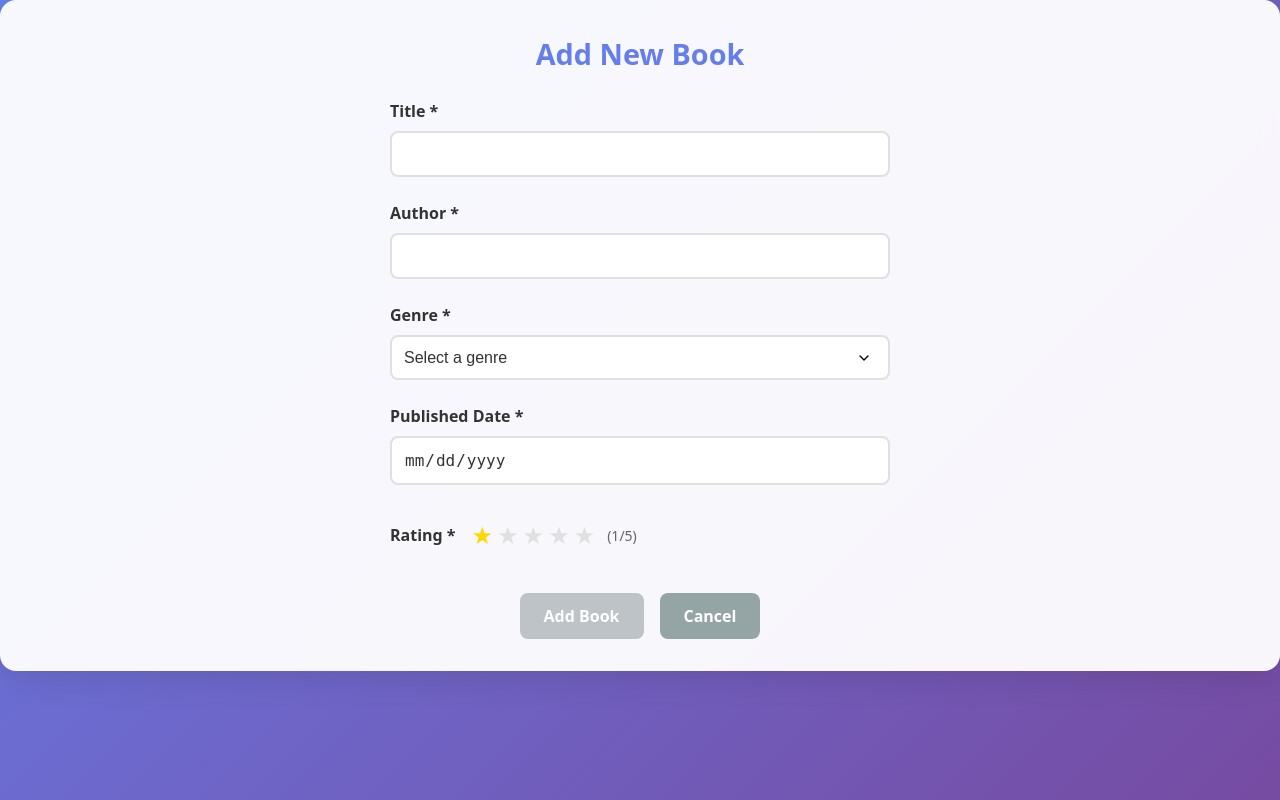
BookForm › enables submit button when form is valid
# Fill in form fields
Type "Valid Book" into the field labelled "Title *" at (640, 154), box [390, 131, 890, 177]
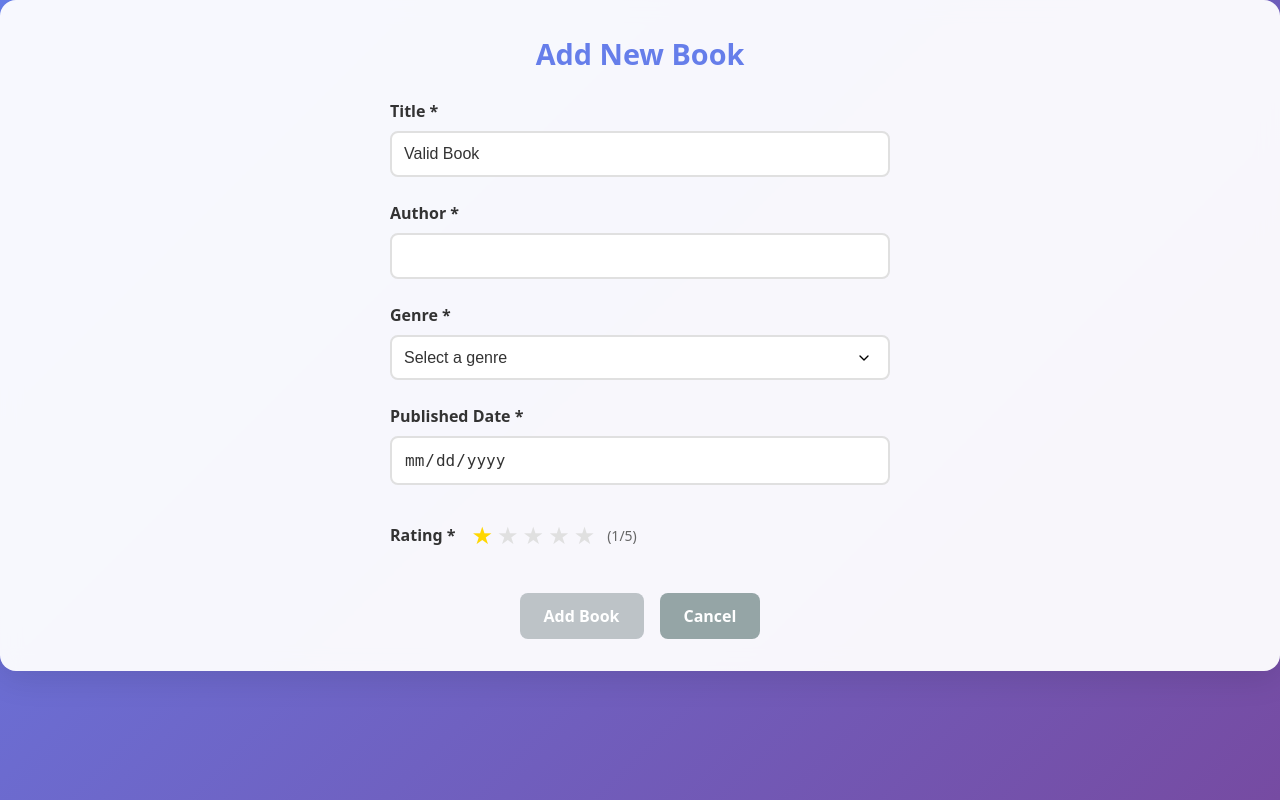
Type "Valid Author" into the field labelled "Author *" at (640, 256), box [390, 233, 890, 279]
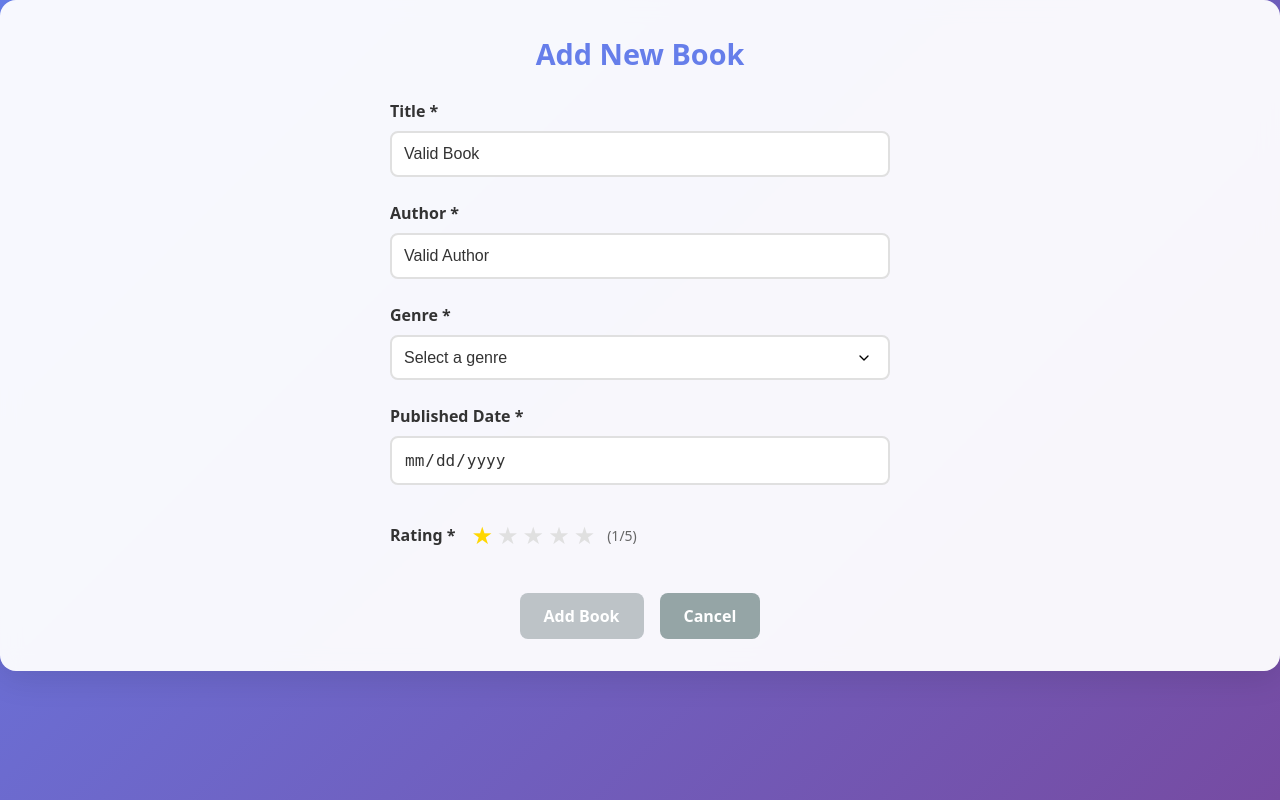
Select "Fiction" in the dropdown labelled "Genre *" at (640, 358), box [390, 335, 890, 380]
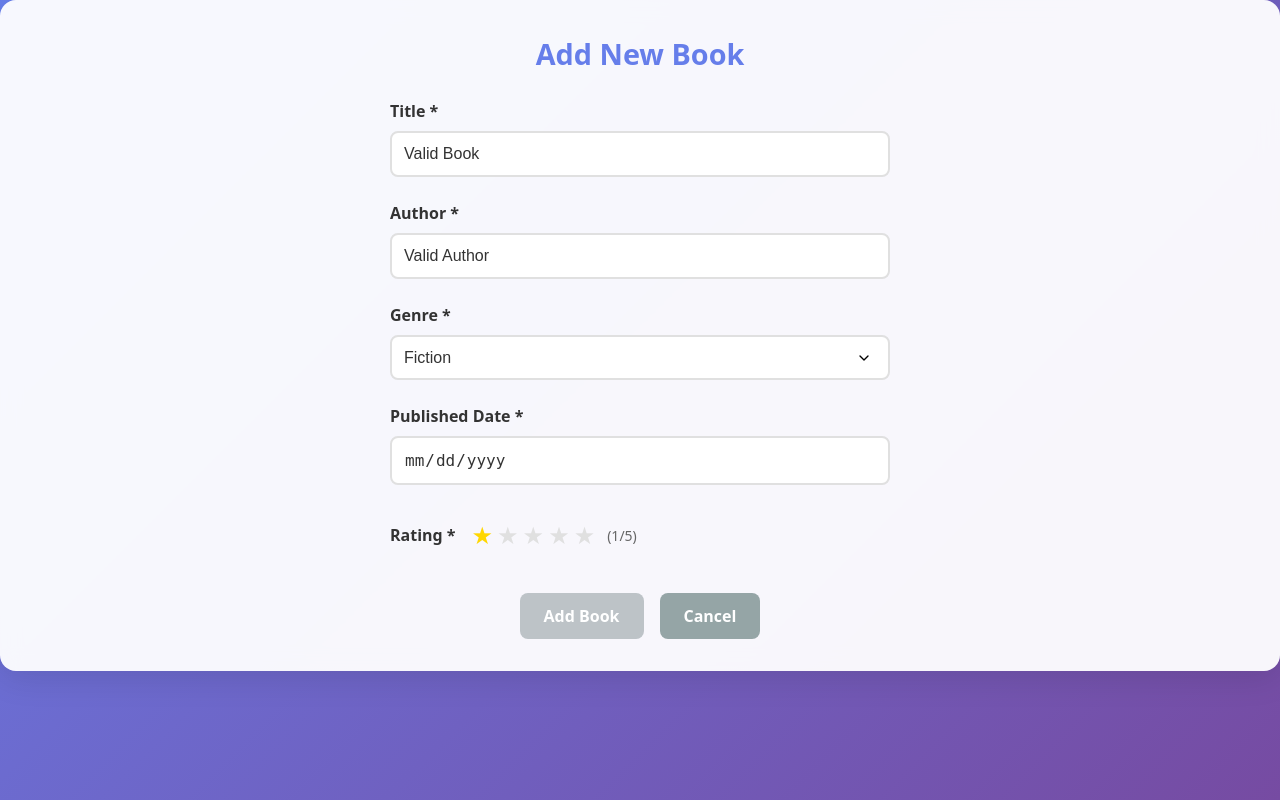
Type "2023-01-01" into the date field labelled "Published Date *" at (640, 461), box [390, 436, 890, 485]
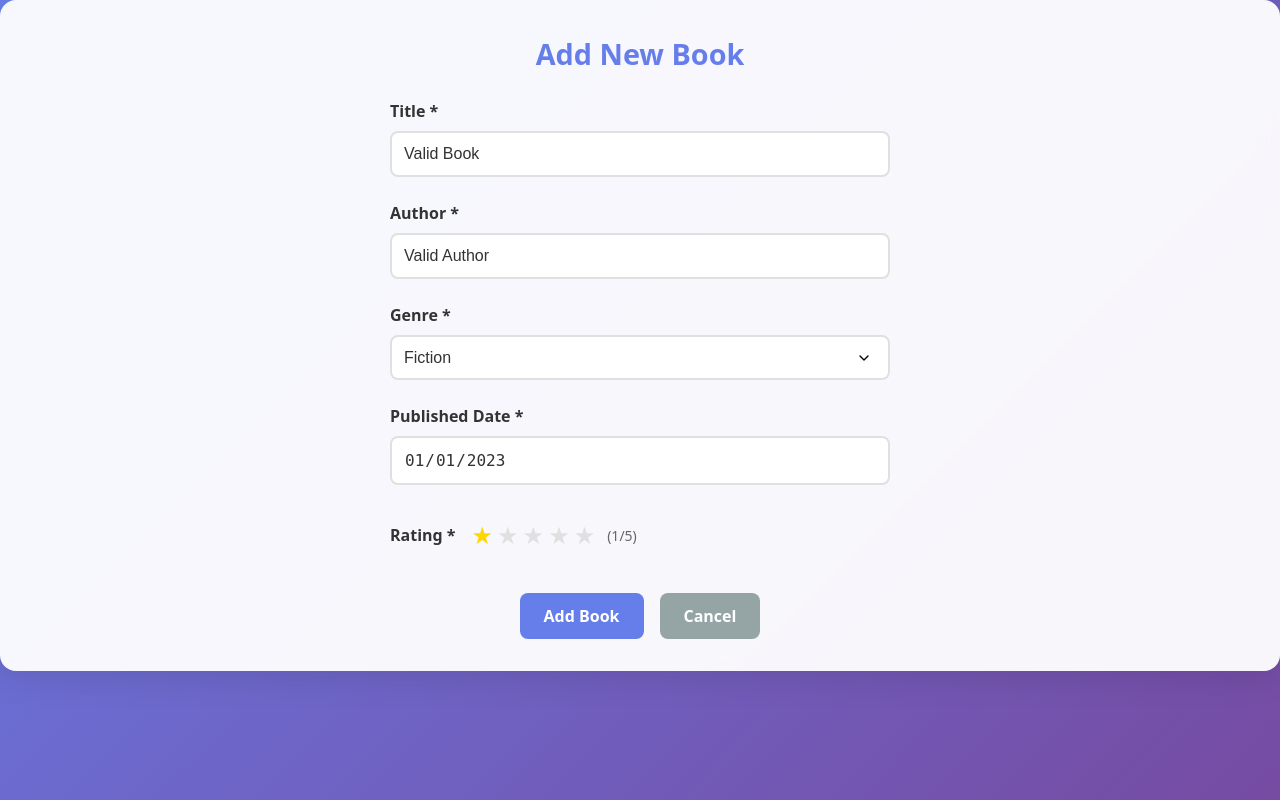
Check: the button "Add Book" is enabled, box [520, 593, 644, 639]
